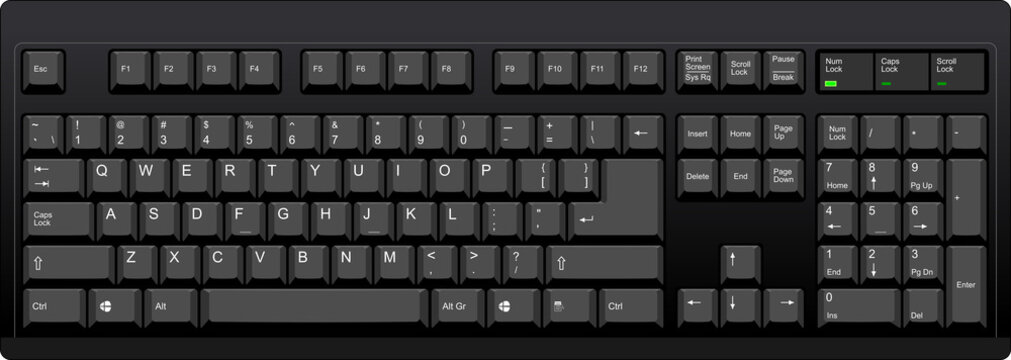keyboard: (1, 31, 1001, 349)
